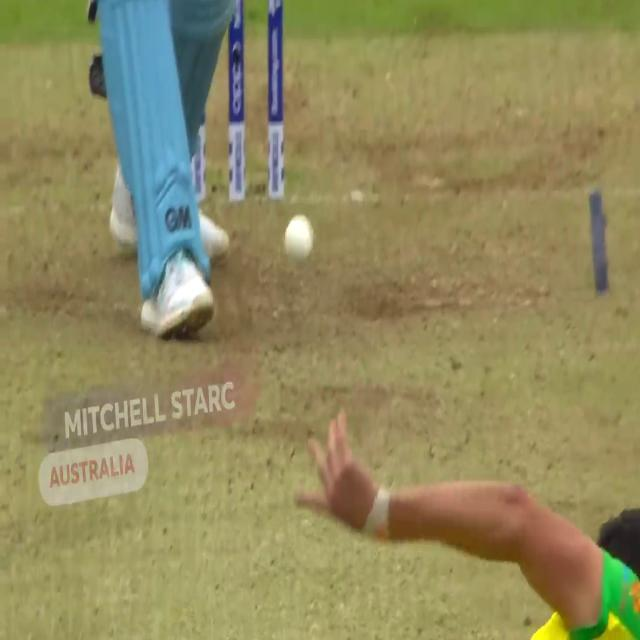ball: (284, 213, 316, 267)
